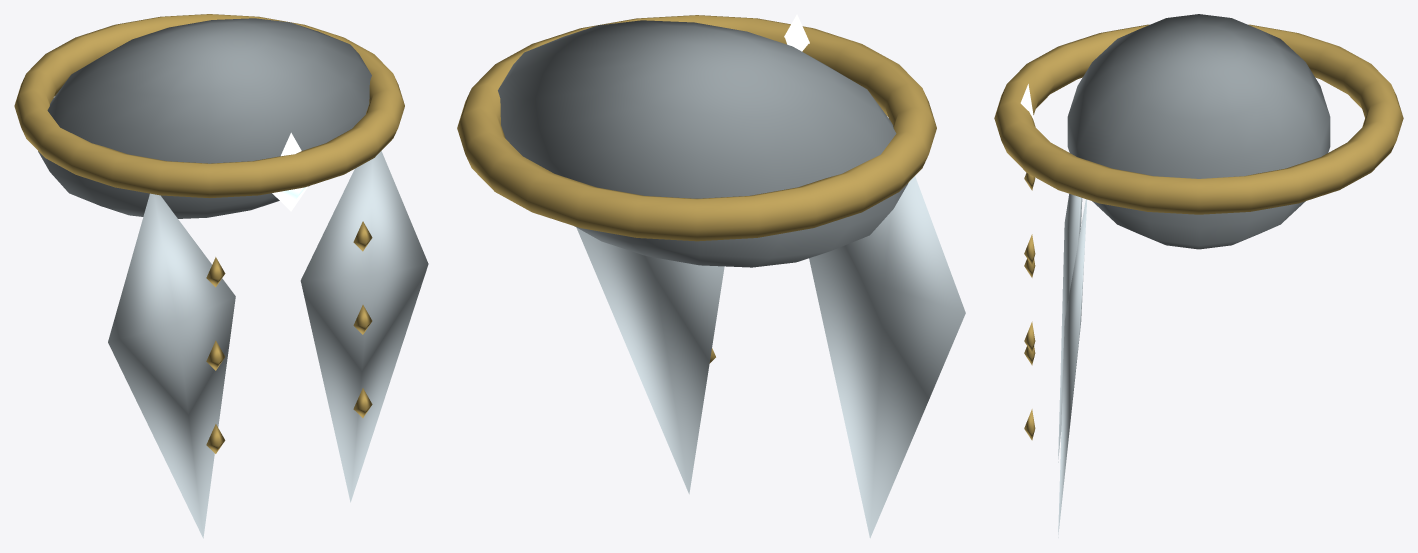
File: boss_truth_of_raikuru_inner_garment.glb
The picture shows the model from 3 angles, left to right: view 1: azimuth 30°, elevation 25°; view 2: azimuth 150°, elevation 25°; view 3: azimuth 270°, elevation 25°; orthographic projection. The views are drawn at different scales.
Visible parts, largest first — view 1: Boss_truth_of_raikuru_0, Boss_truth_of_raikuru_3, Boss_truth_of_raikuru_1, Boss_truth_of_raikuru_2; view 2: Boss_truth_of_raikuru_3, Boss_truth_of_raikuru_0, Boss_truth_of_raikuru_1; view 3: Boss_truth_of_raikuru_3, Boss_truth_of_raikuru_1, Boss_truth_of_raikuru_0.
Part boxes in pixels (x1,y1,x2,y2): Boss_truth_of_raikuru_0: [108, 151, 428, 538]; Boss_truth_of_raikuru_3: [38, 18, 371, 218]; Boss_truth_of_raikuru_1: [14, 14, 404, 453]; Boss_truth_of_raikuru_2: [272, 132, 308, 211]; Boss_truth_of_raikuru_3: [498, 20, 908, 267]; Boss_truth_of_raikuru_0: [576, 176, 965, 538]; Boss_truth_of_raikuru_1: [457, 15, 936, 363]; Boss_truth_of_raikuru_3: [1067, 14, 1330, 249]; Boss_truth_of_raikuru_1: [994, 24, 1403, 440]; Boss_truth_of_raikuru_0: [1058, 194, 1086, 537].
Size of the model in its own units: 0.552 by 0.675 by 0.552.
